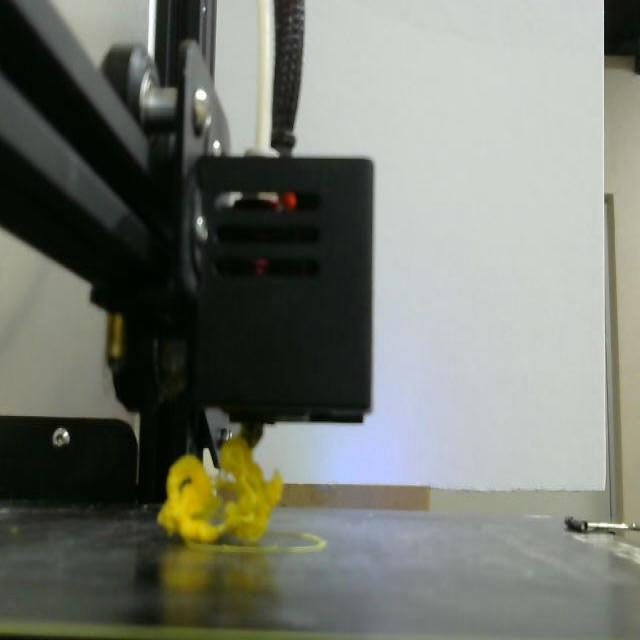spaghetti: (161, 421, 292, 550)
